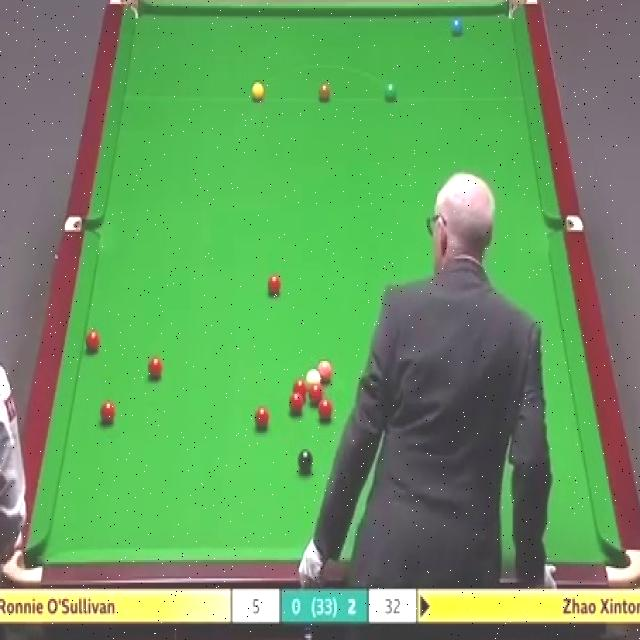black-ball: (298, 451, 312, 474)
blue-ball: (451, 17, 465, 35)
brown-ball: (319, 82, 332, 102)
green-ball: (383, 82, 398, 104)
pink-ball: (316, 358, 332, 384)
red-ball: (147, 352, 163, 383), (85, 330, 103, 354), (254, 406, 270, 432), (100, 400, 115, 426), (317, 397, 333, 421), (266, 274, 282, 298), (310, 380, 326, 402), (293, 378, 307, 401), (289, 393, 304, 414)
white-ball: (305, 368, 320, 383)
yellow-ball: (250, 81, 265, 102)
